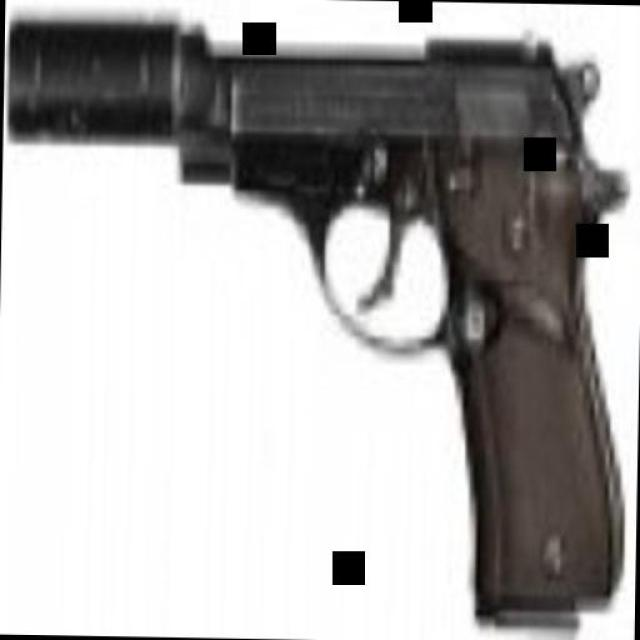gun: (0, 8, 631, 628)
